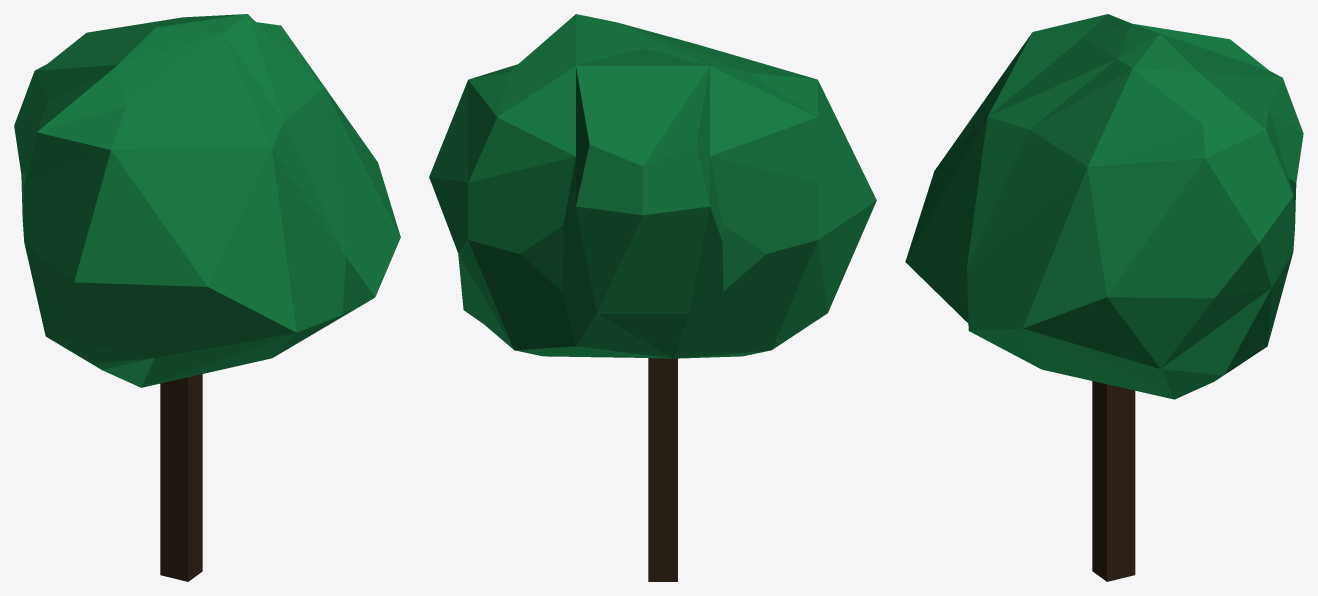
The model's file is tree3.fbx.
The picture shows the model from 3 angles, left to right: view 1: azimuth 30°, elevation 25°; view 2: azimuth 150°, elevation 25°; view 3: azimuth 270°, elevation 25°; orthographic projection. The views are drawn at different scales.
Visible parts, largest first — view 1: Box019; view 2: Box019; view 3: Box019.
Boxes of the visible parts, left/top/right/bottom form: Box019: left=14, top=14, right=400, bottom=581; Box019: left=429, top=14, right=876, bottom=581; Box019: left=905, top=14, right=1303, bottom=581.
Bounding box in the file's own units: 7.17 × 10.44 × 6.95.
